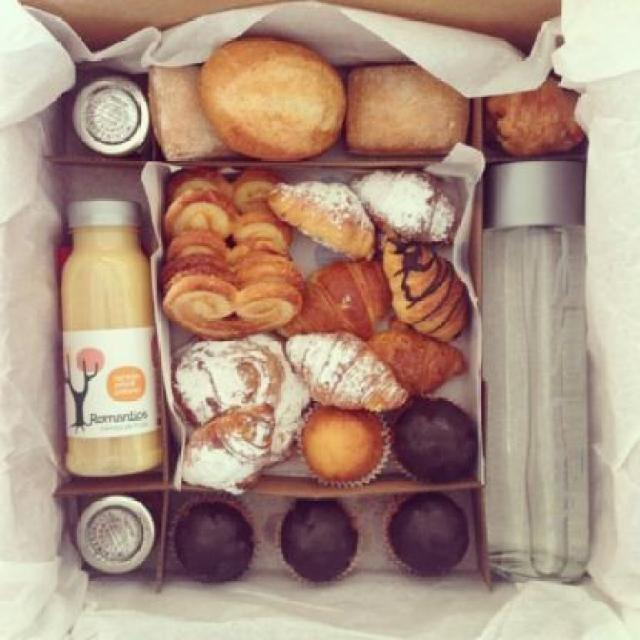Croissant: (385, 227, 469, 347), (286, 332, 406, 412), (179, 404, 276, 494), (272, 179, 376, 261), (349, 170, 460, 246), (358, 318, 468, 394)
